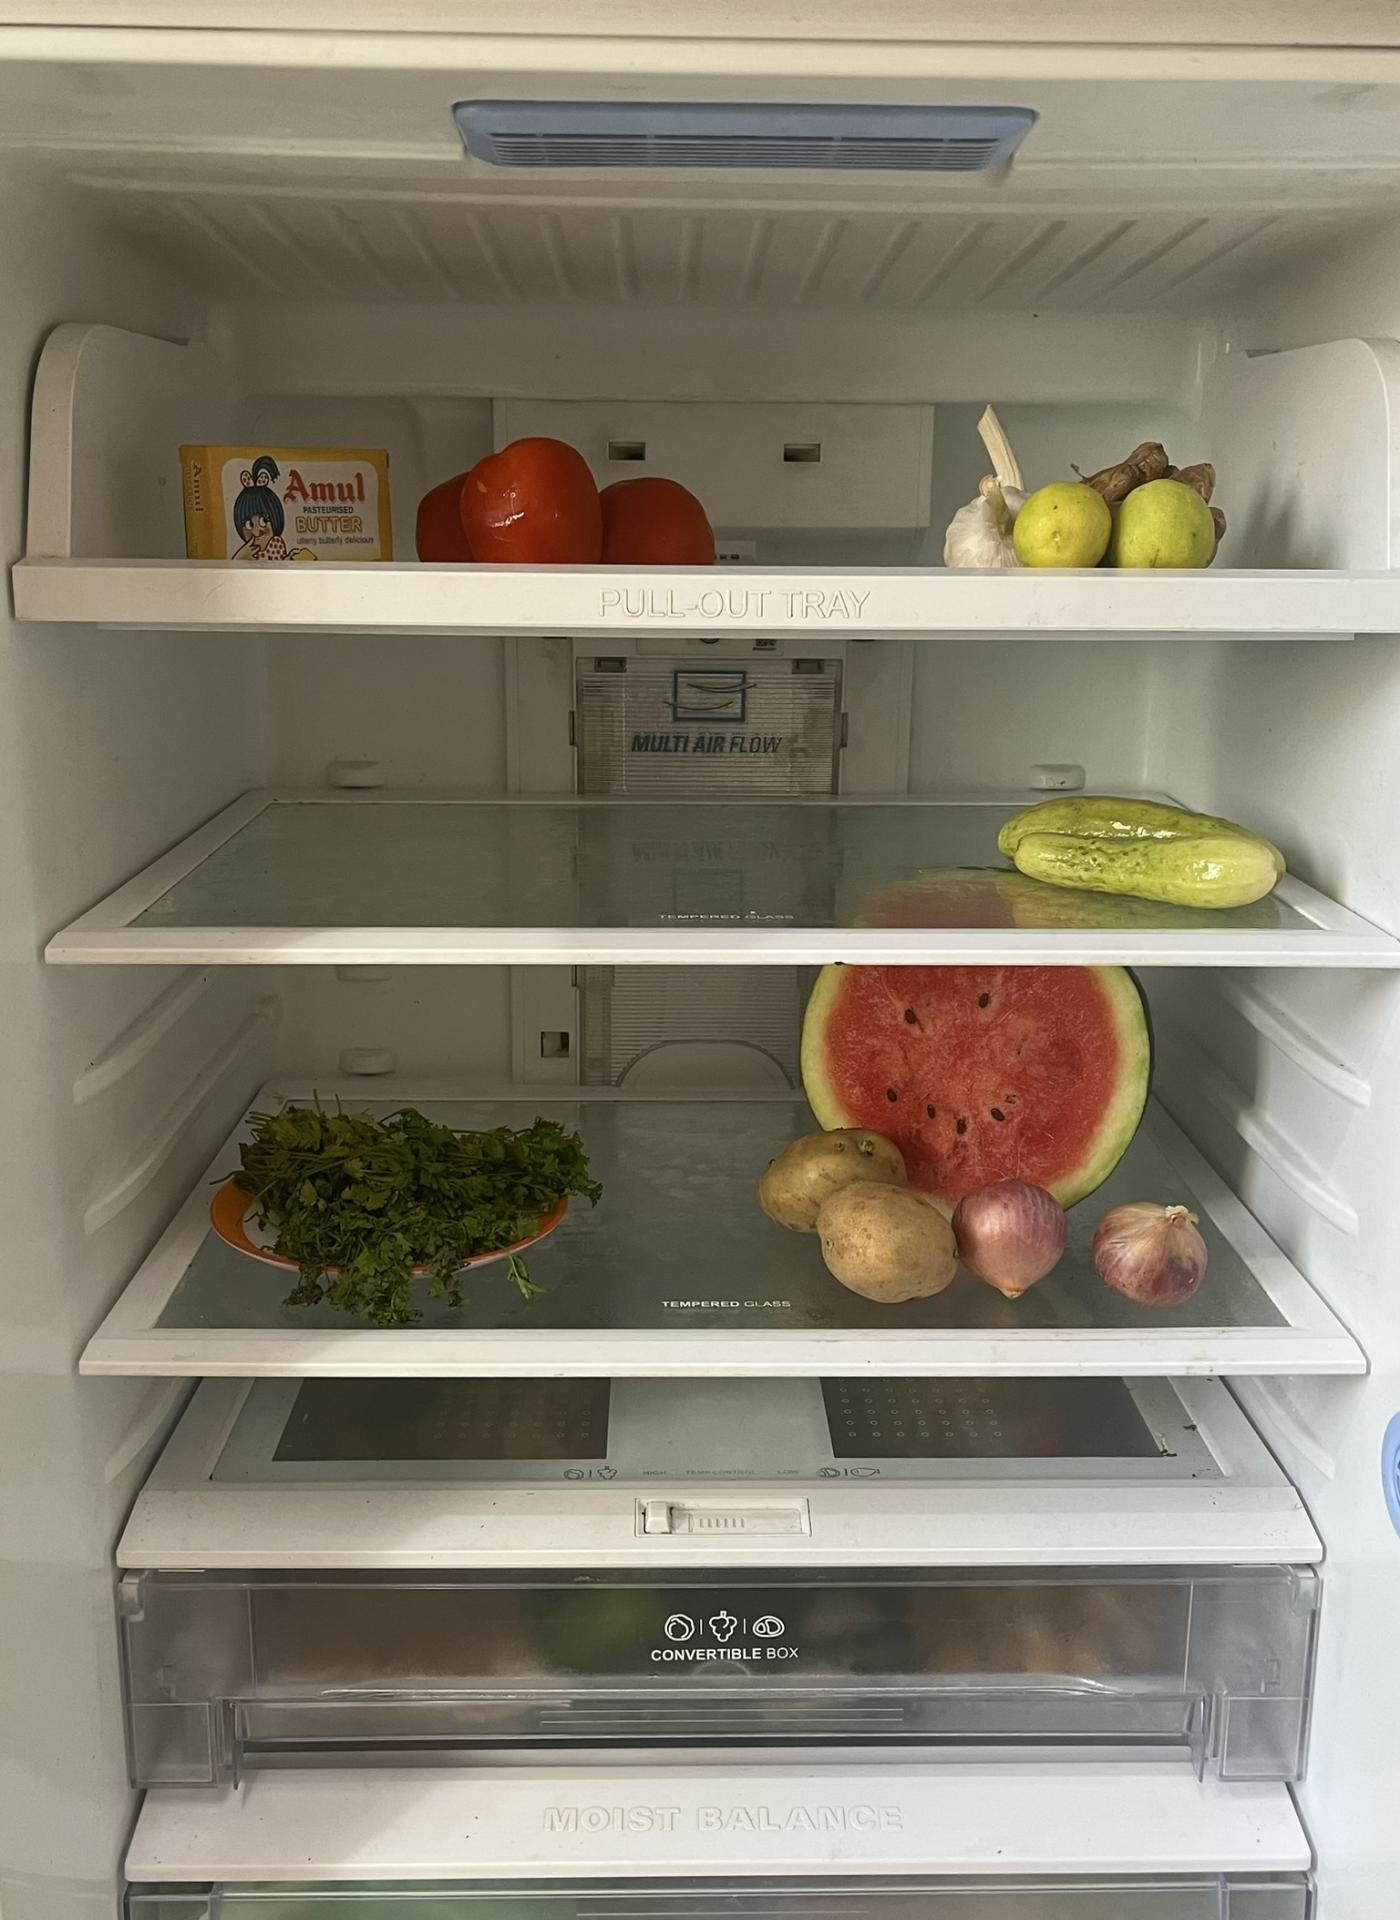butter: (174, 437, 389, 559)
coriander: (230, 1099, 596, 1318)
garlic: (941, 400, 1027, 562)
lemon: (1014, 484, 1215, 571)
onion: (972, 1193, 1209, 1309)
potato: (759, 1117, 957, 1289)
tomato: (425, 428, 705, 571)
watermelon: (813, 972, 1150, 1221)
